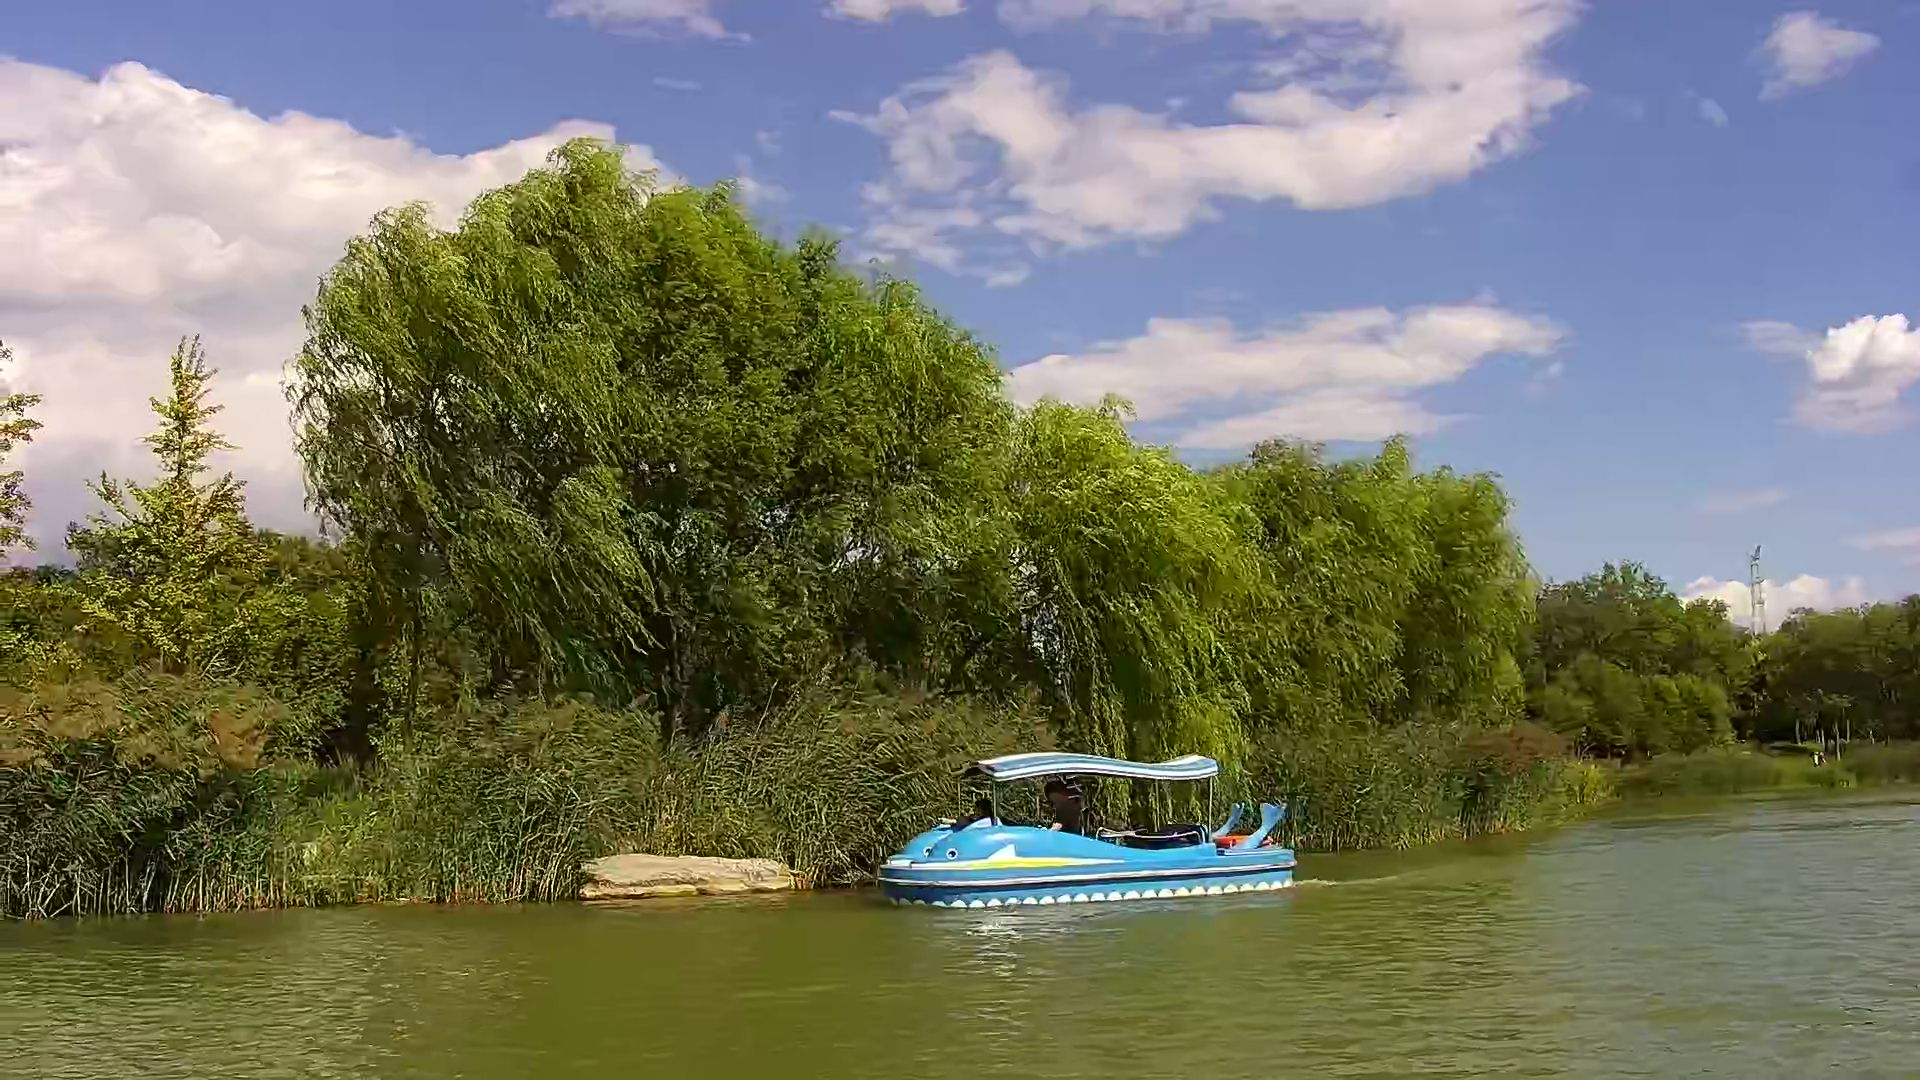boat: (877, 751, 1296, 912)
person: (1039, 779, 1085, 839)
rock: (580, 854, 795, 906)
